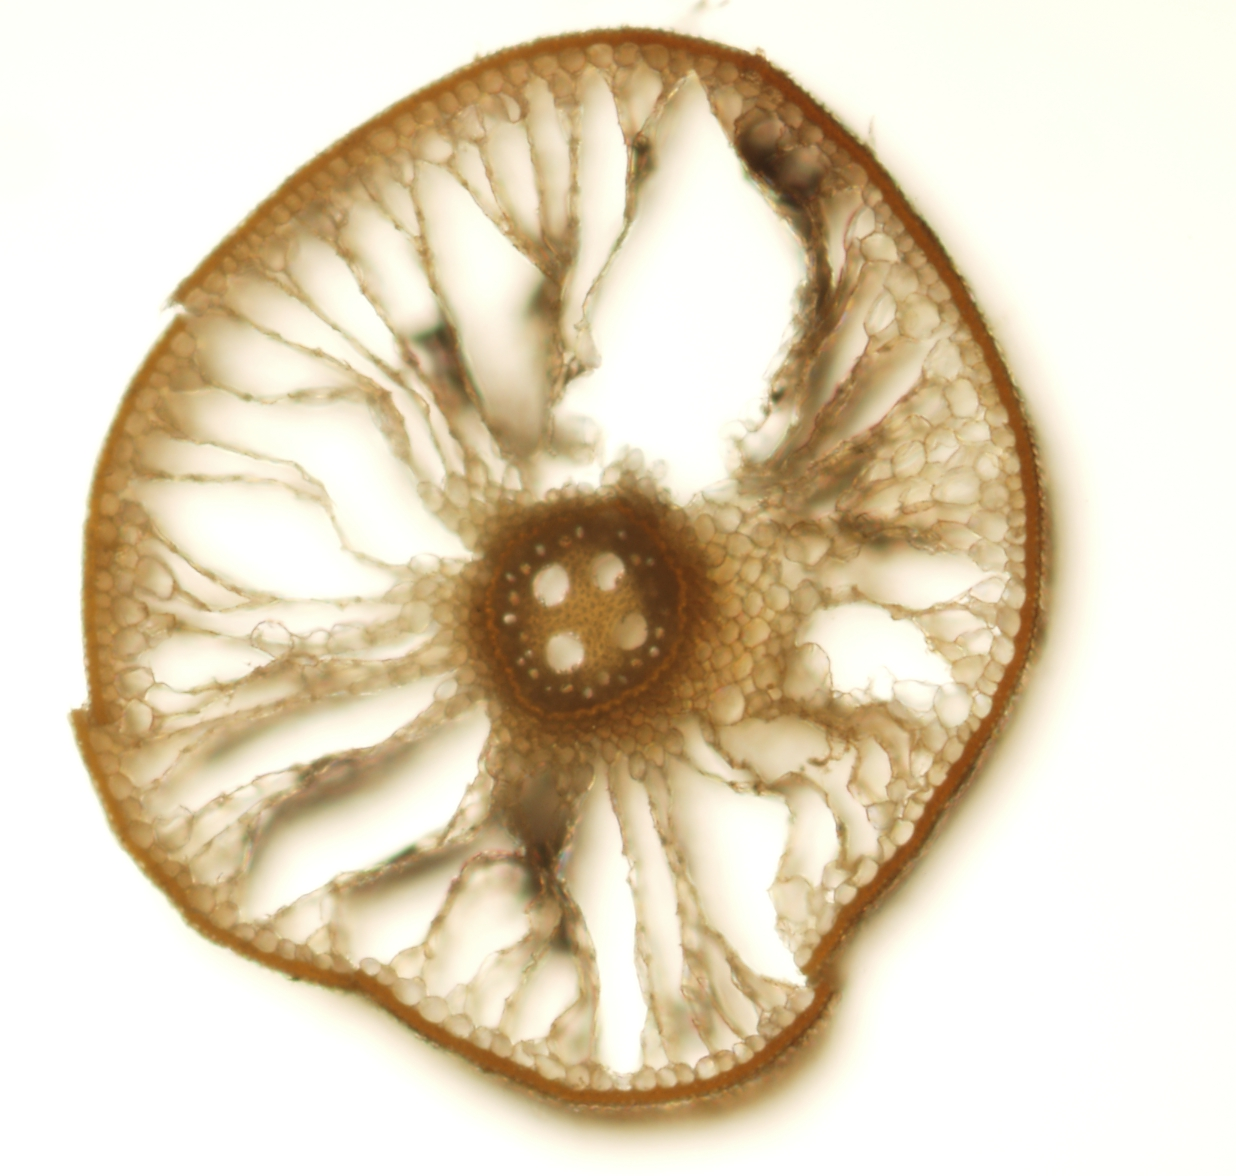lm: (531, 562, 571, 607), (546, 631, 585, 674), (587, 550, 625, 592), (612, 609, 648, 650)
